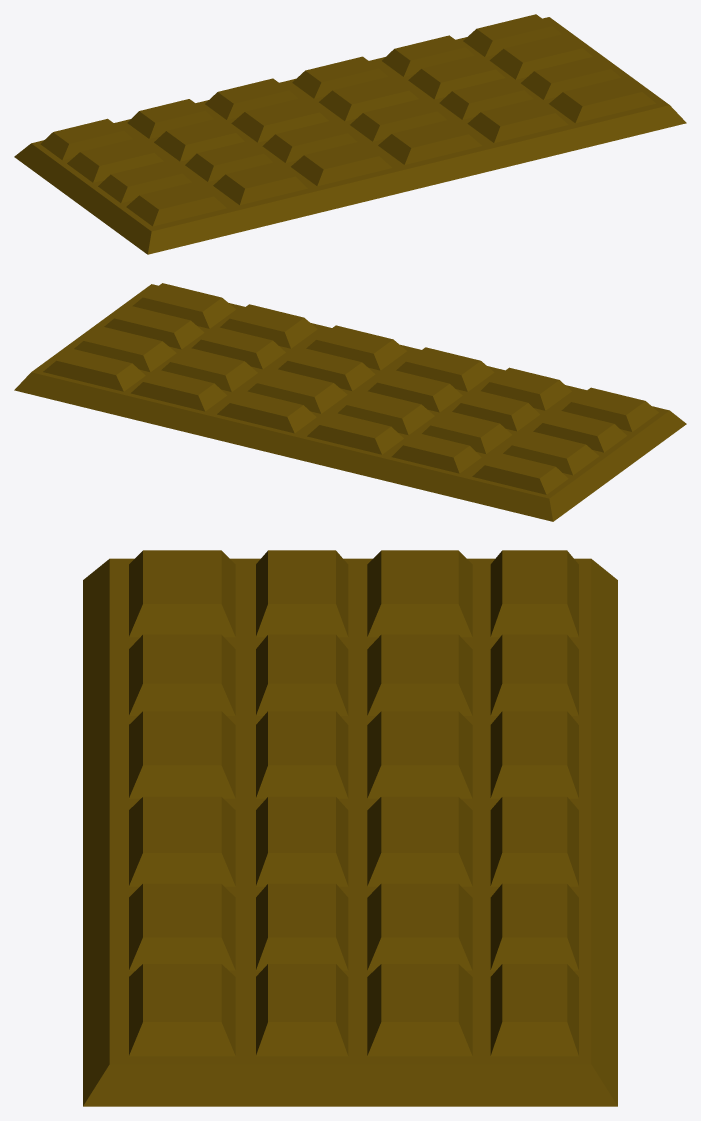
Rendered from ChocolateBar.fbx.
3 renders of one model, top to bottom at view 1: azimuth 30°, elevation 25°; view 2: azimuth 150°, elevation 25°; view 3: azimuth 270°, elevation 25°, orthographic. The views are drawn at different scales.
Visible parts, largest first — view 1: Bar; view 2: Bar; view 3: Bar.
Part boxes in pixels (x1,y1,x2,y2): Bar: (14, 14, 686, 254); Bar: (14, 283, 686, 521); Bar: (83, 550, 617, 1106).
Bounding box in the file's own units: 176 × 8.62 × 75.55.
